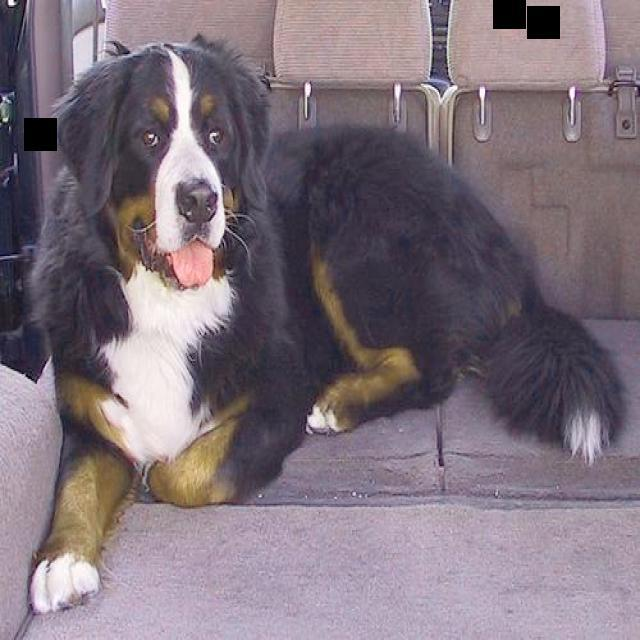adult_dog: (28, 25, 630, 614)
